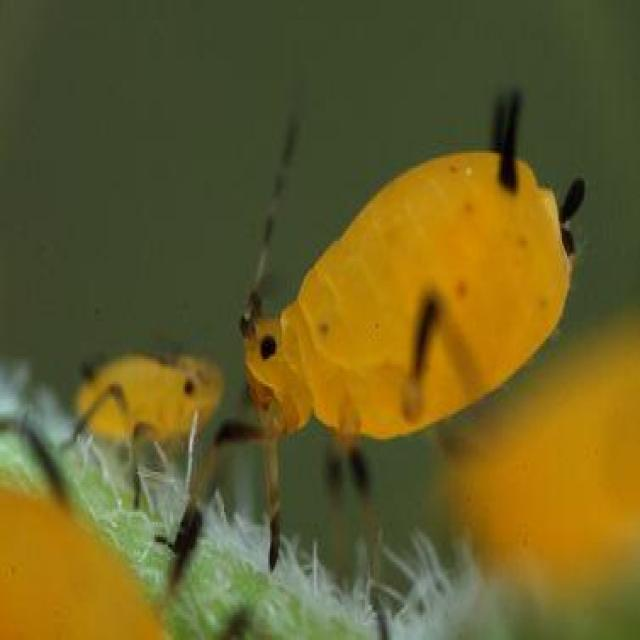Aphids: (198, 89, 614, 558)
